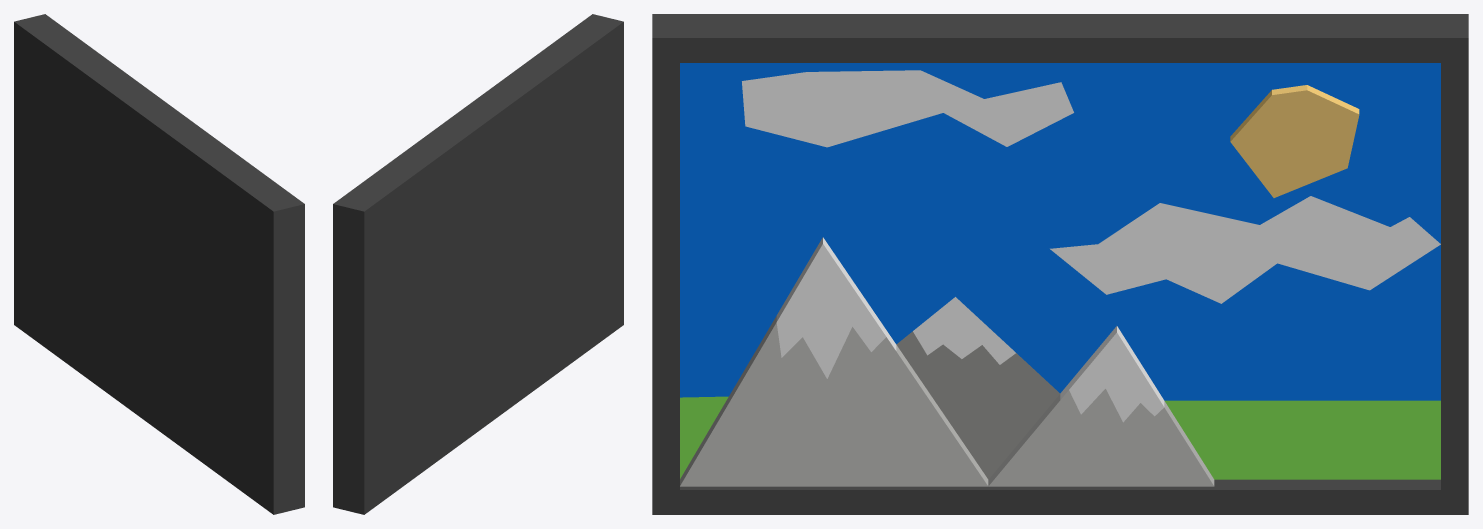
File: Blue_picture.fbx
3 renders of one model, left to right at view 1: azimuth 30°, elevation 25°; view 2: azimuth 150°, elevation 25°; view 3: azimuth 270°, elevation 25°, orthographic. The views are drawn at different scales.
Visible parts, largest first — view 1: Cube.013; view 2: Cube.013; view 3: Cube.013.
Part boxes in pixels (left/top/right/bottom): Cube.013: left=14, top=14, right=304, bottom=514; Cube.013: left=333, top=14, right=623, bottom=514; Cube.013: left=652, top=14, right=1468, bottom=514.
Size of the model in its own units: 15.77 by 146 by 227.
